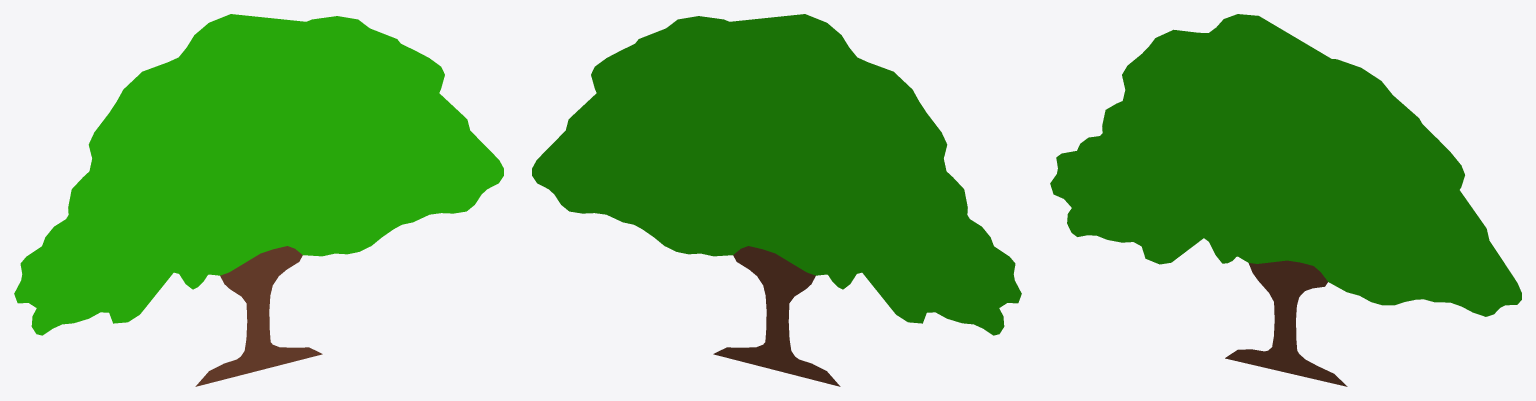
Rendered from dzewo_kololowe_plaskie.fbx.
3 renders of one model, left to right at view 1: azimuth 30°, elevation 25°; view 2: azimuth 150°, elevation 25°; view 3: azimuth 330°, elevation 25°, orthographic. The views are drawn at different scales.
Visible parts, largest first — view 1: Plane; view 2: Plane; view 3: Plane.
Boxes of the visible parts, box(x1,y1,x2,y2) form: Plane: box(14, 14, 503, 386); Plane: box(532, 14, 1021, 386); Plane: box(1050, 14, 1521, 386).
Size of the model in its own units: 477 by 339 by 6.01e-05.
